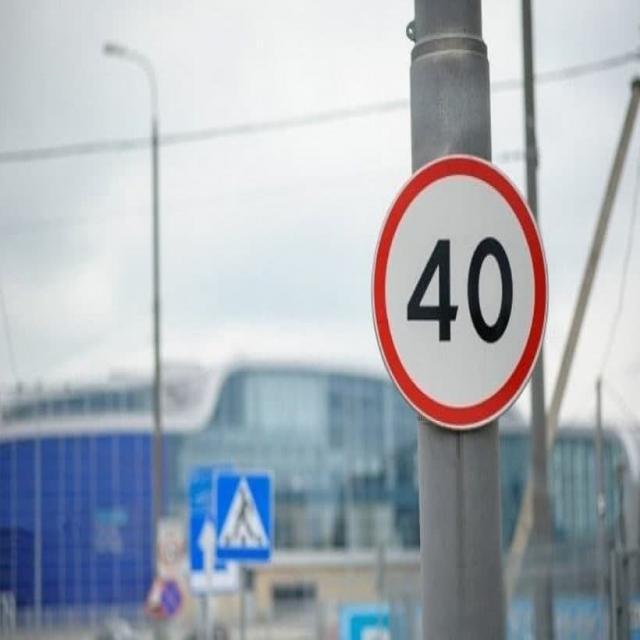speed limit 40: (369, 154, 550, 437)
